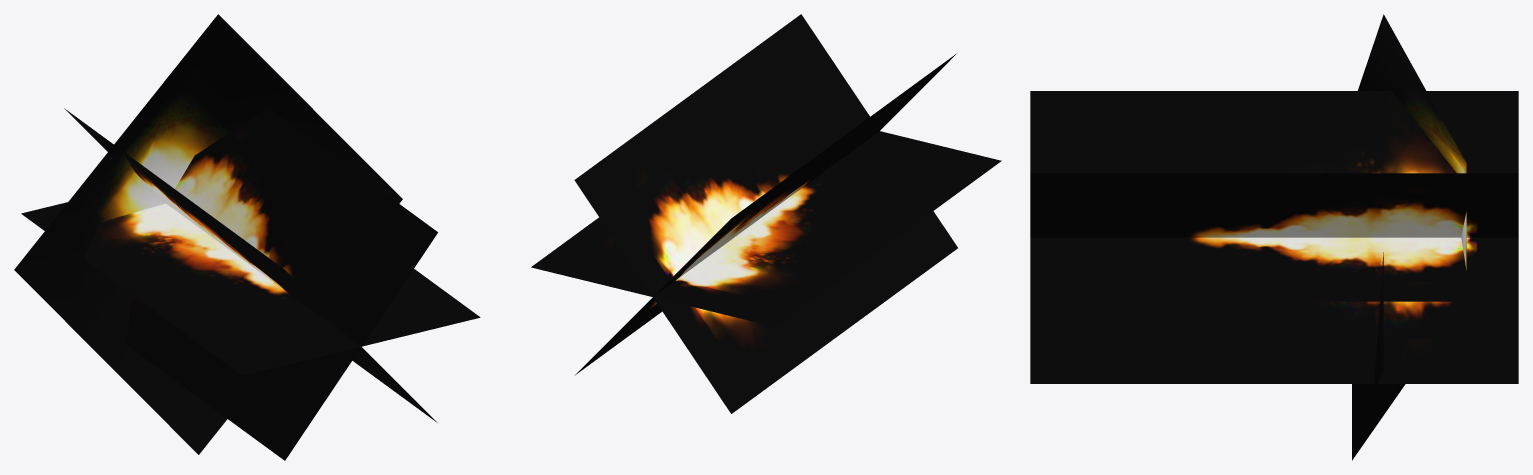
The model's file is S_FX_Generic_MuzzleFlash.FBX.
3 views of the same model, side by side, from view 1: azimuth 30°, elevation 25°; view 2: azimuth 150°, elevation 25°; view 3: azimuth 270°, elevation 25° (orthographic). The views are drawn at different scales.
Visible parts, largest first — view 1: Rifle_MuzzleFlash; view 2: Rifle_MuzzleFlash; view 3: Rifle_MuzzleFlash.
Part boxes in pixels (<box>): Rifle_MuzzleFlash: <box>14,14,480,460</box>; Rifle_MuzzleFlash: <box>531,14,1001,413</box>; Rifle_MuzzleFlash: <box>1030,14,1518,460</box>.
Bounding box in the file's own units: 42.89 × 42.92 × 40.82.
1 material, 1 textured.
